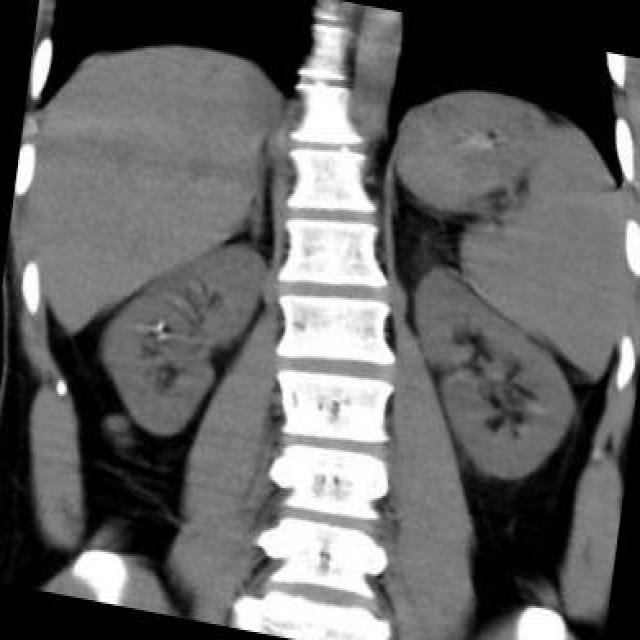Tas_Var: (153, 315, 165, 329)
